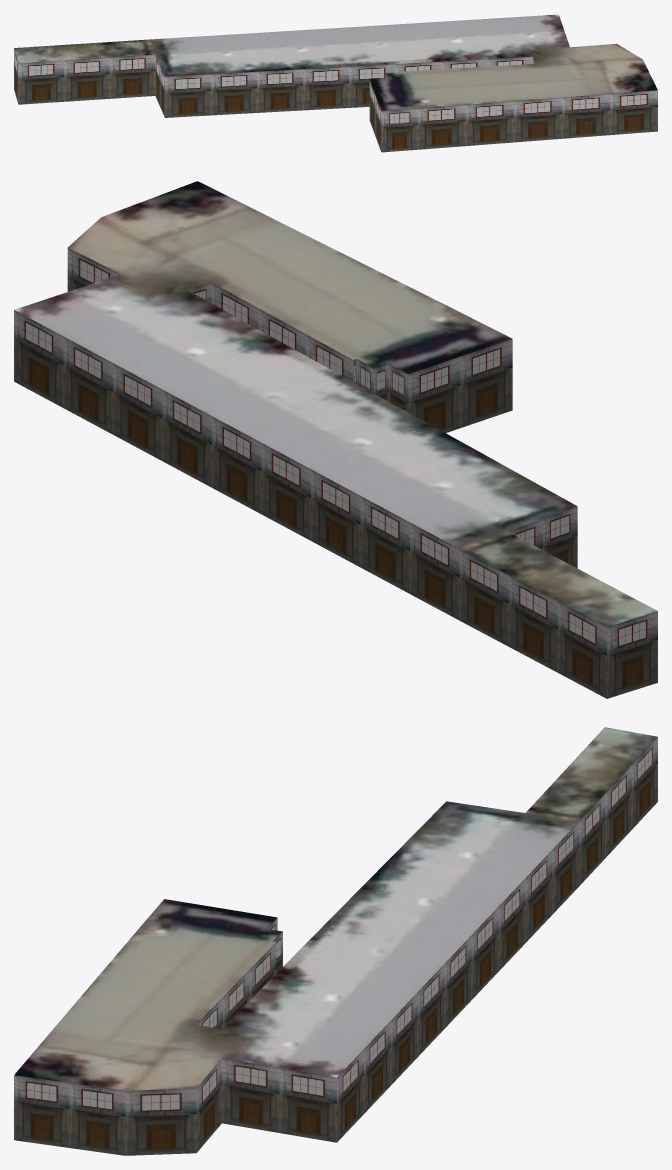
3 views of the same model, one above another, from view 1: azimuth 30°, elevation 25°; view 2: azimuth 150°, elevation 25°; view 3: azimuth 270°, elevation 25° (orthographic). The views are drawn at different scales.
Parts seen in each view (by area): view 1: SketchUp (×12); view 2: SketchUp (×12); view 3: SketchUp (×14).
Part boxes in pixels (<box>): SketchUp (×12): <box>14,14,657,152</box>; SketchUp (×12): <box>14,181,657,698</box>; SketchUp (×14): <box>14,727,657,1155</box>.
Bounding box in the file's own units: 65.86 × 49.3 × 5.5.
3 materials, 3 textured.
